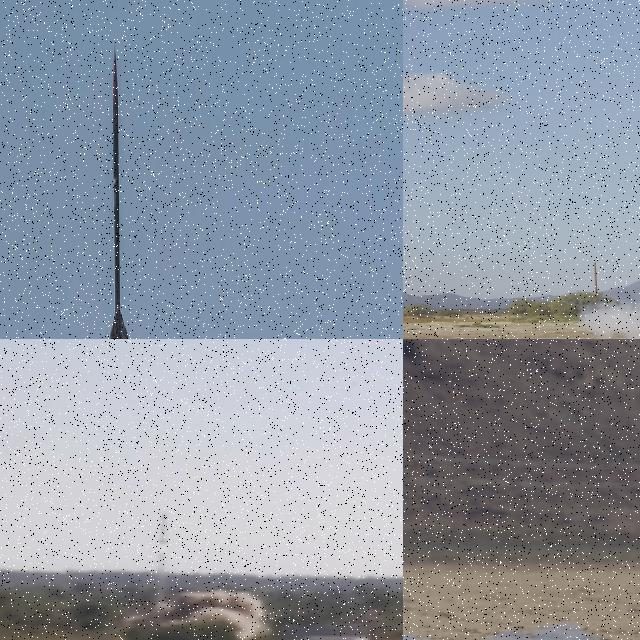Rocket: (104, 41, 130, 339), (156, 512, 170, 544)
